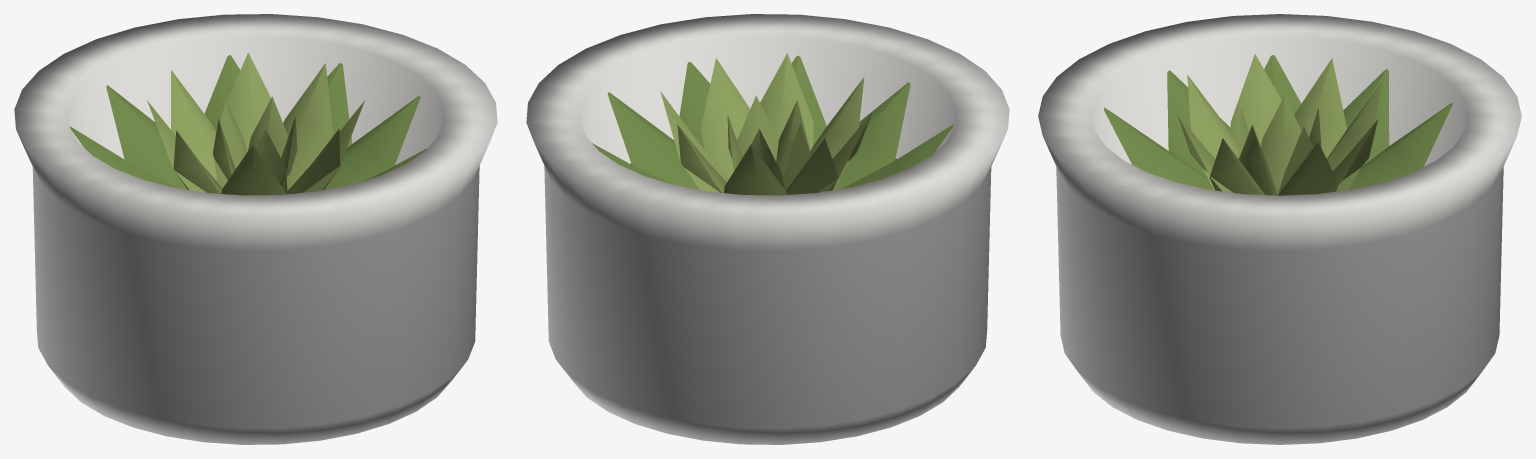
The model's file is plant_succulent.glb.
3 renders of one model, left to right at view 1: azimuth 30°, elevation 25°; view 2: azimuth 150°, elevation 25°; view 3: azimuth 270°, elevation 25°, orthographic.
Parts seen in each view (by area): view 1: plant_succulent_pot, plant_succulent_leaves; view 2: plant_succulent_pot, plant_succulent_leaves; view 3: plant_succulent_pot, plant_succulent_leaves.
Part boxes in pixels (bbox=[...]): plant_succulent_pot: bbox=[14, 14, 497, 444]; plant_succulent_leaves: bbox=[70, 52, 427, 195]; plant_succulent_pot: bbox=[526, 14, 1009, 444]; plant_succulent_leaves: bbox=[592, 53, 953, 195]; plant_succulent_pot: bbox=[1038, 14, 1521, 444]; plant_succulent_leaves: bbox=[1104, 54, 1452, 195].
Bounding box in the file's own units: 0.108 × 0.0644 × 0.108.
